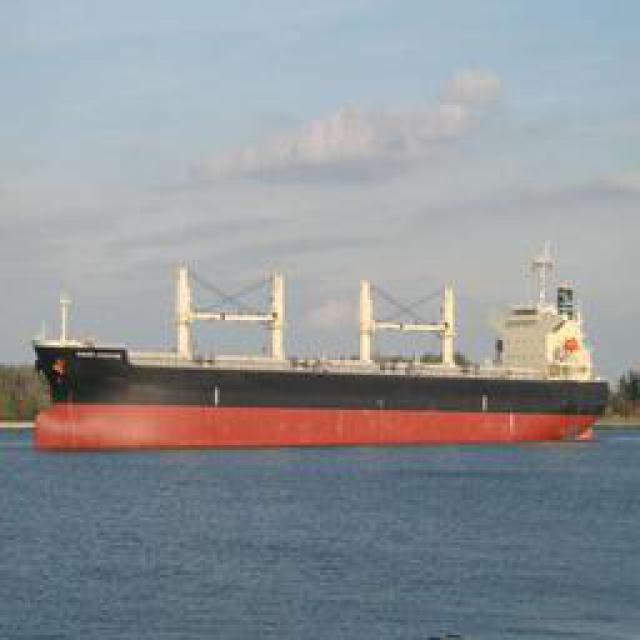Ship: (15, 243, 613, 456)
